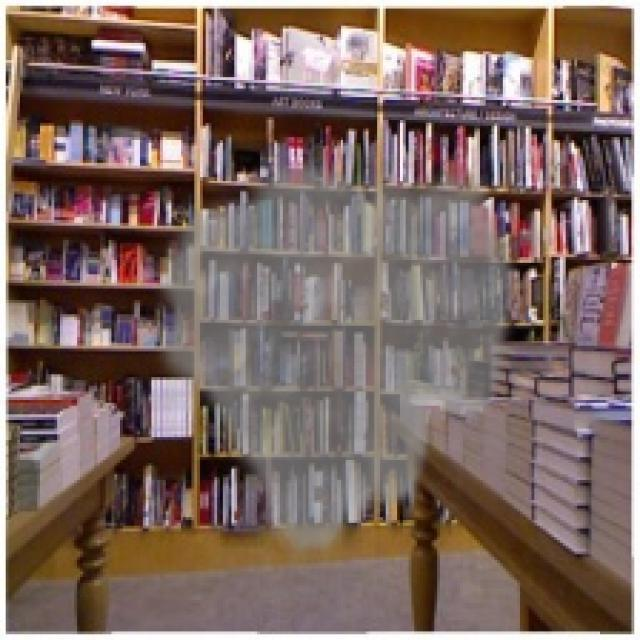Smoke: (146, 154, 523, 569)
